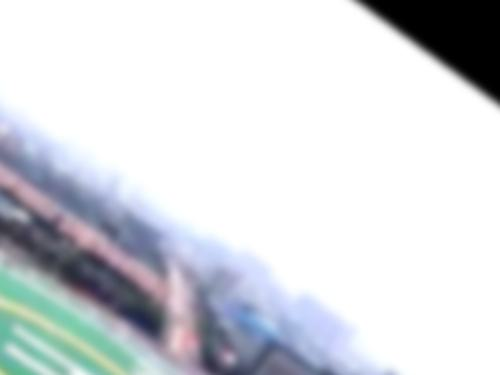Apron: (1, 295, 128, 375)
